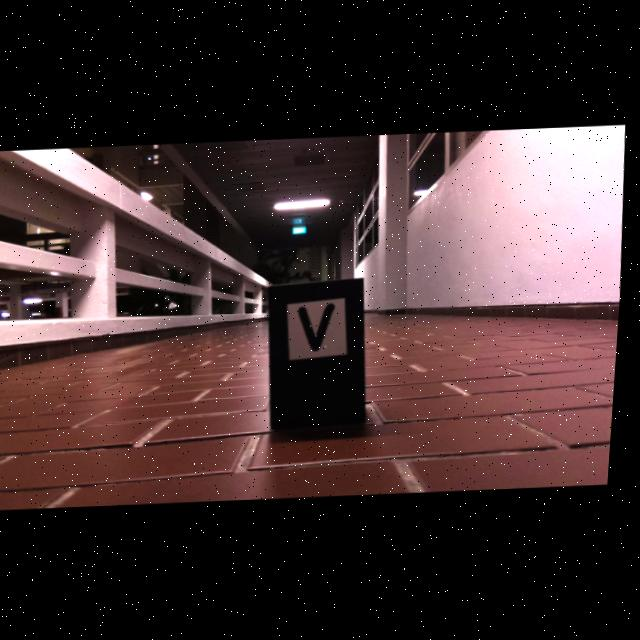V: (303, 304, 338, 351)
